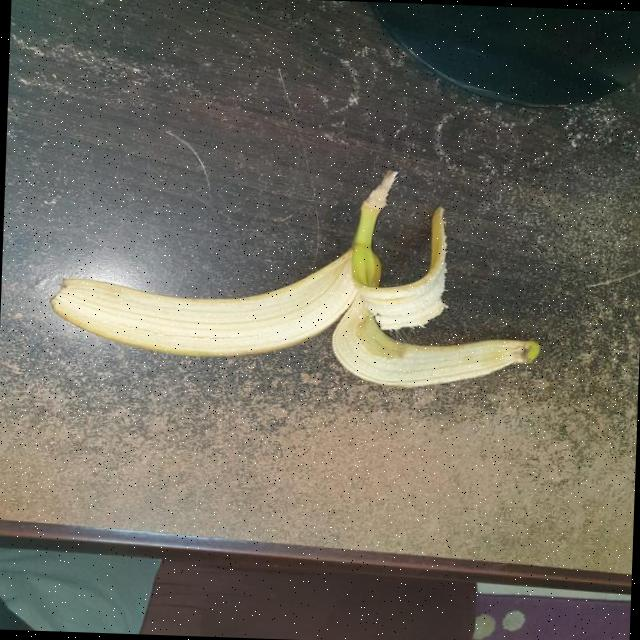banana-peel: (46, 156, 546, 392), (328, 168, 545, 392)
